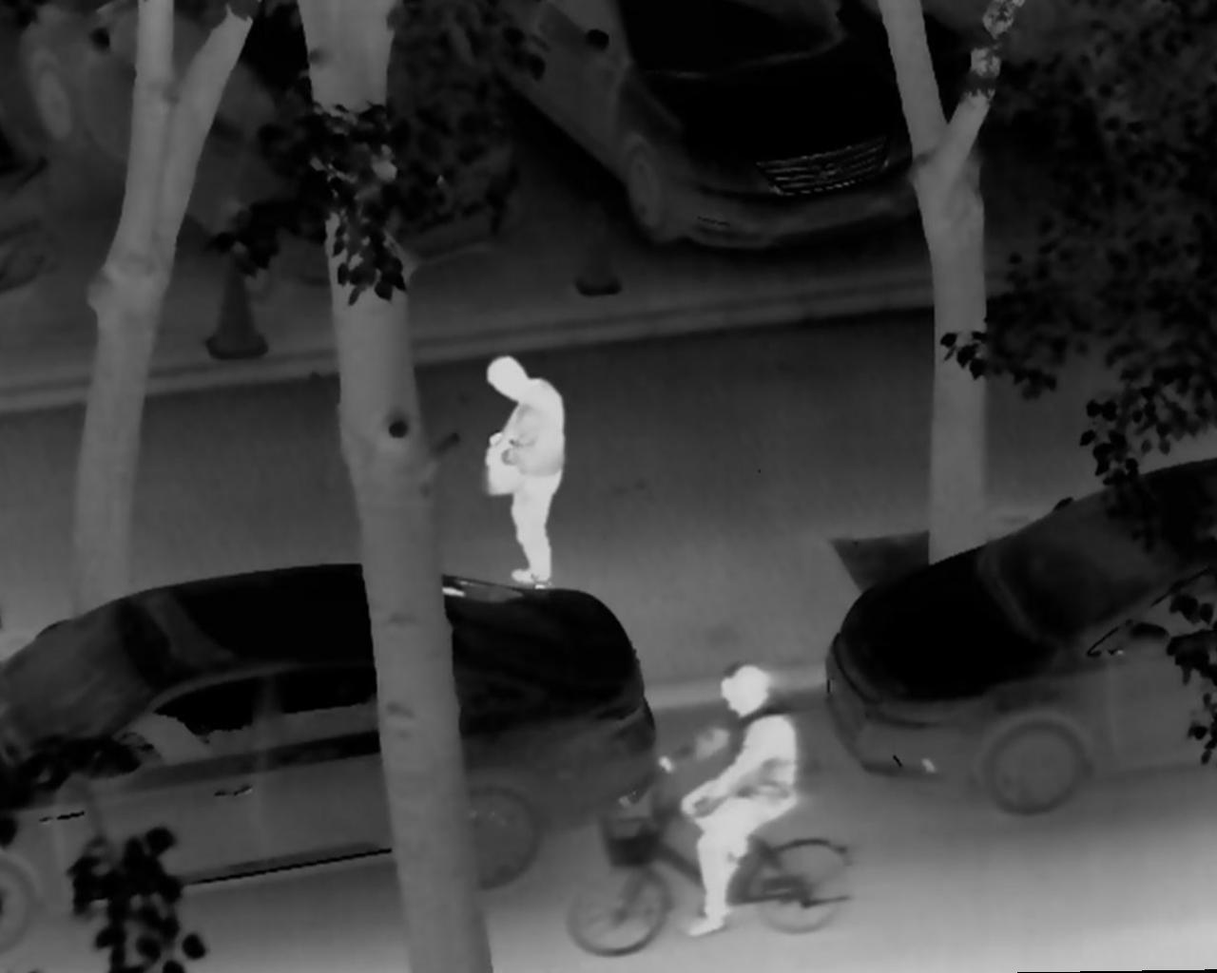person: (647, 662, 805, 945), (458, 349, 585, 601)
